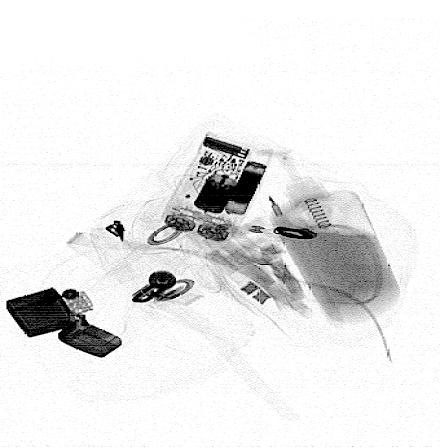Lighter: (5, 286, 123, 358)
